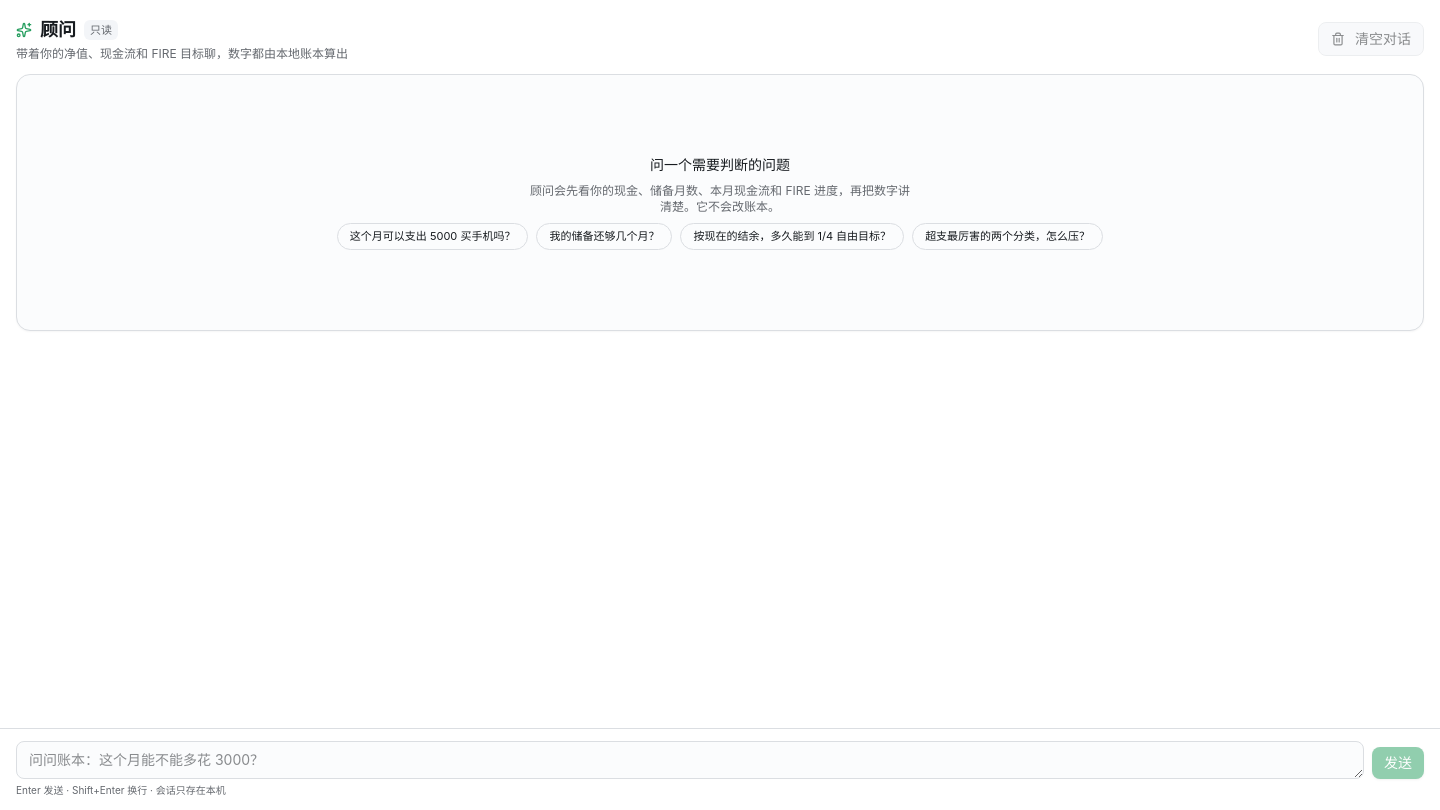
Test: Advisor › shows which tools the advisor used
Type "现金流" into the text box with placeholder "问问账本：这个月能不能多花 3000？" at (690, 760), box [16, 741, 1364, 779]
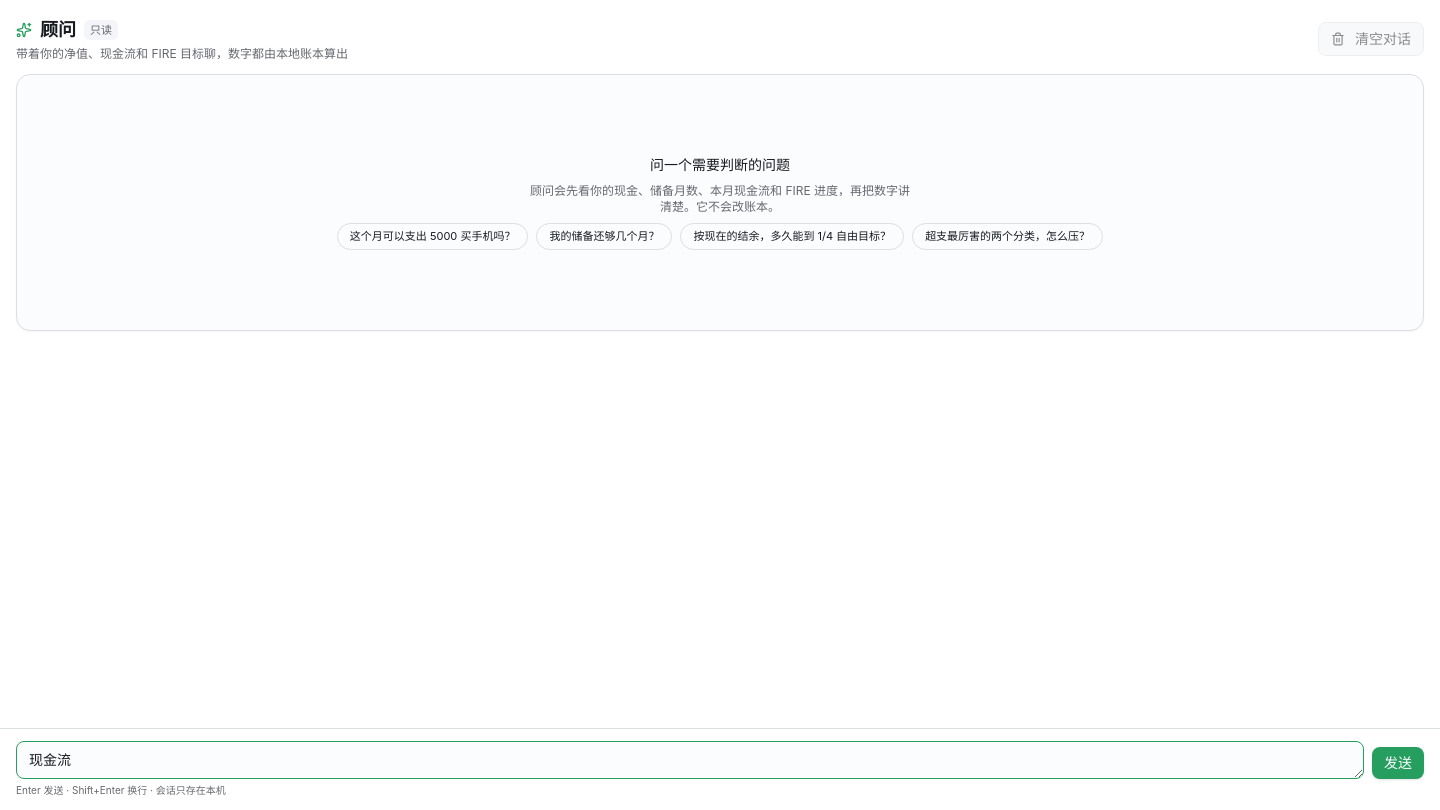
Click the button "发送" at (1398, 763), box [1372, 747, 1424, 779]
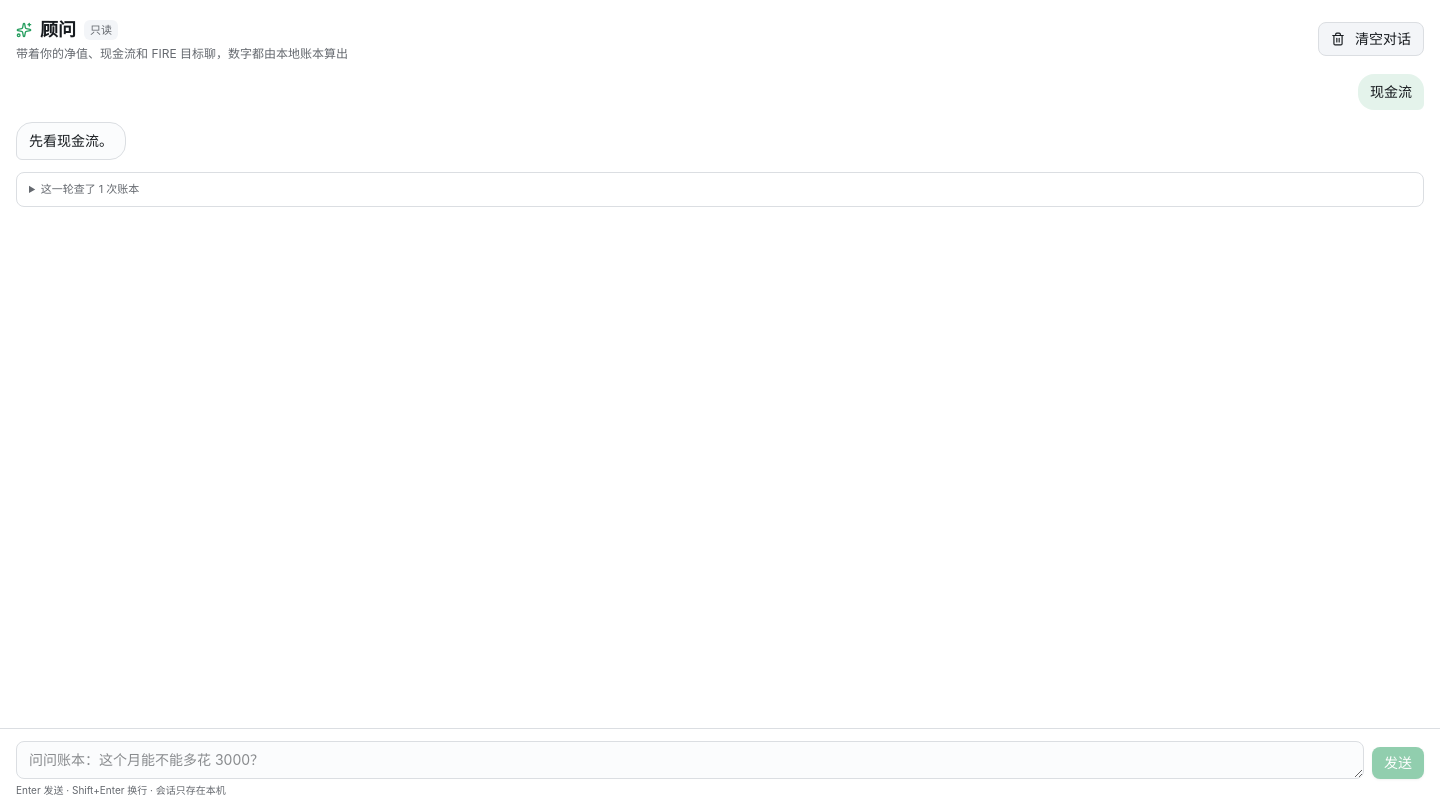
Expected: the heading "这一轮查了 1 次账本" is shown, [41, 182, 139, 196]
